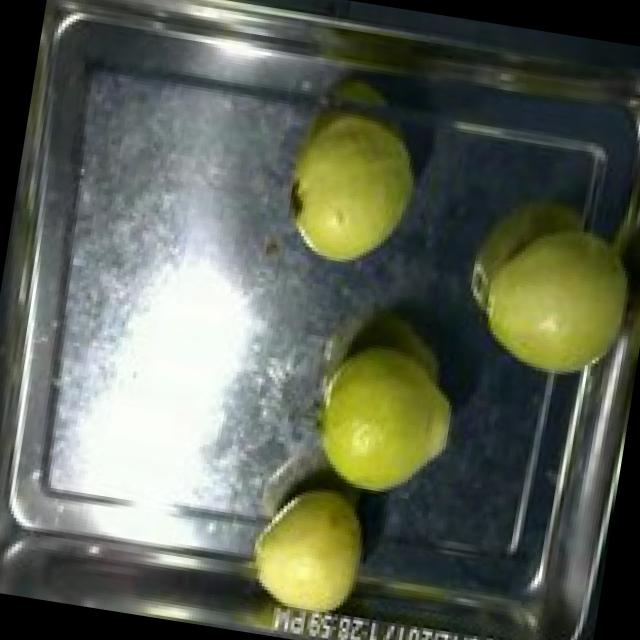Fruit: (448, 202, 640, 394), (296, 327, 470, 514), (267, 92, 433, 285), (233, 468, 381, 640)
